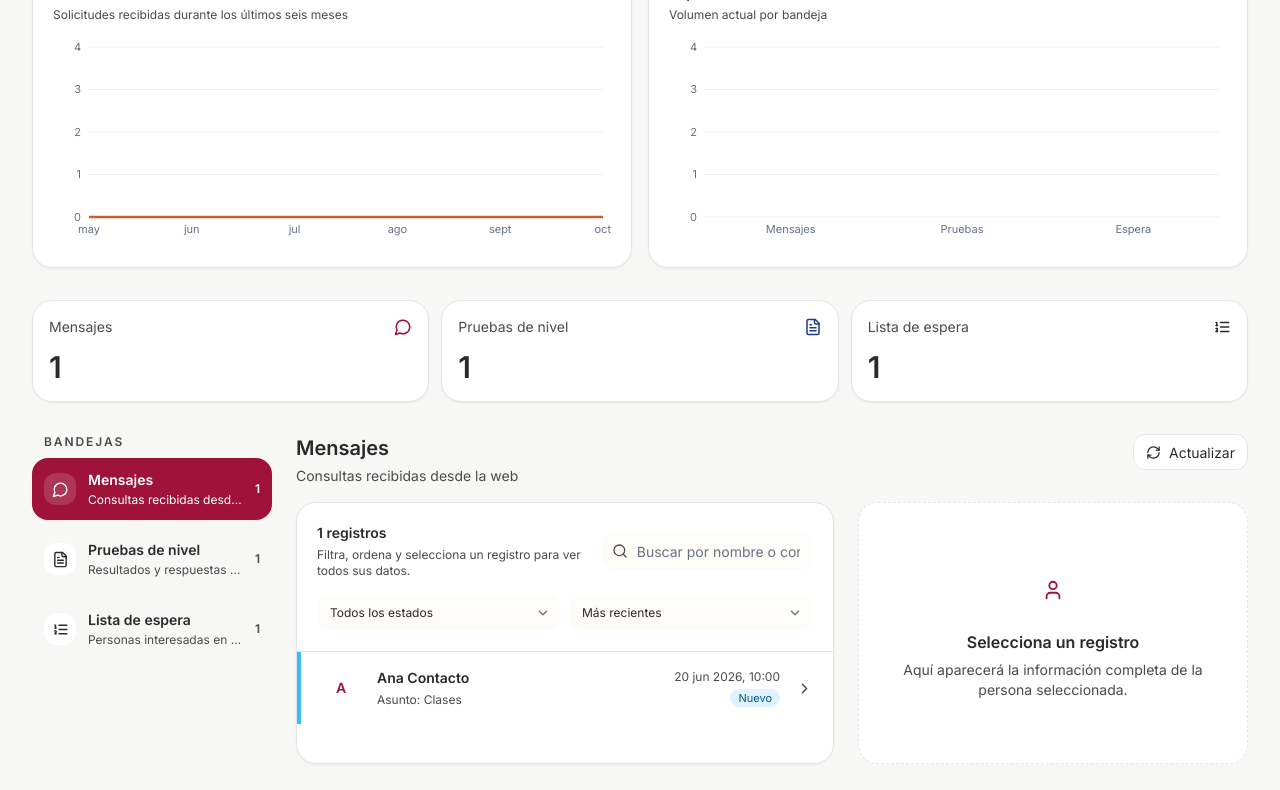
EsterDashboard › muestra el detalle completo de un mensaje de la web
(page scrolled)
Step 1. Click the button "A Ana Contacto Asunto: Clases 20 jun 2026, 10:00 Nuevo" → (423,678), box top-left (297, 652), bottom-right (833, 724)
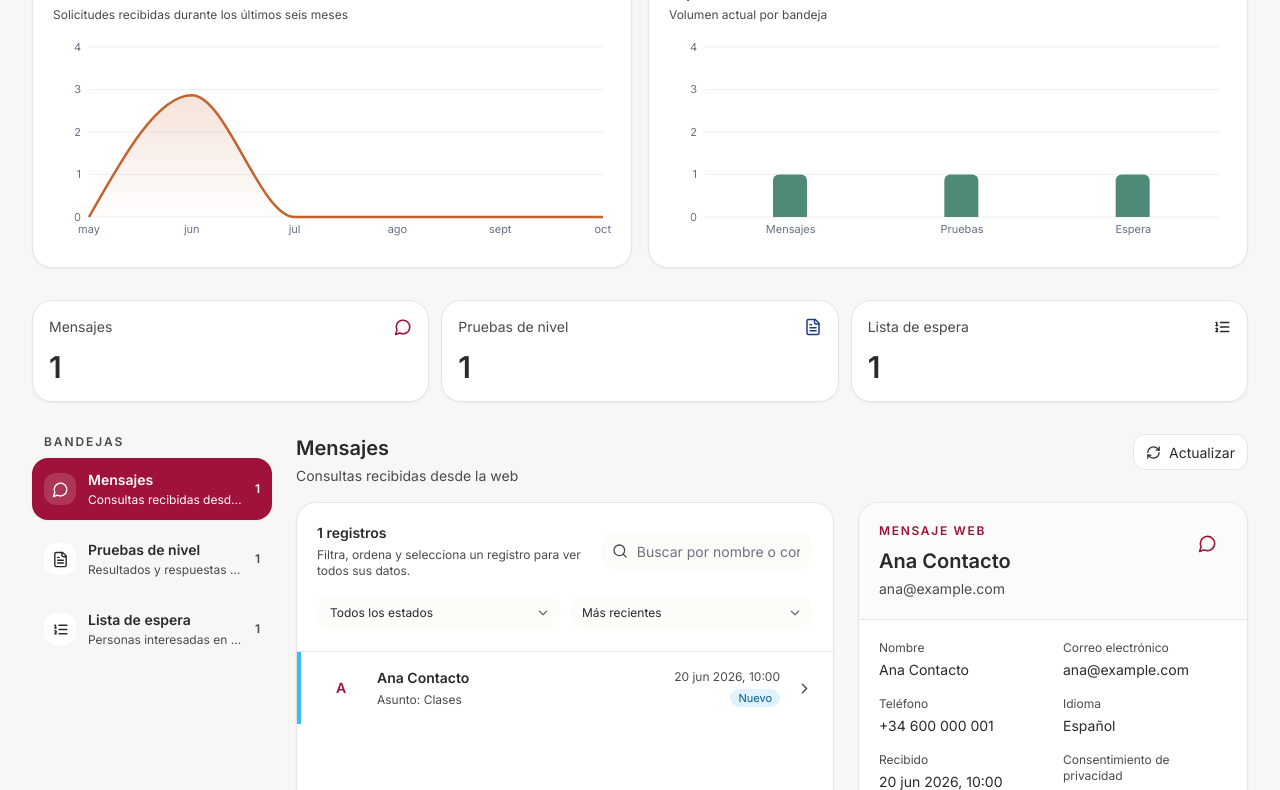
Check: the text "ana@example.com" below "Mensaje web" is shown, box top-left (879, 580), bottom-right (1005, 597)
Check: the text "Consentimiento de privacidad" is shown, box top-left (1063, 752), bottom-right (1170, 783)
